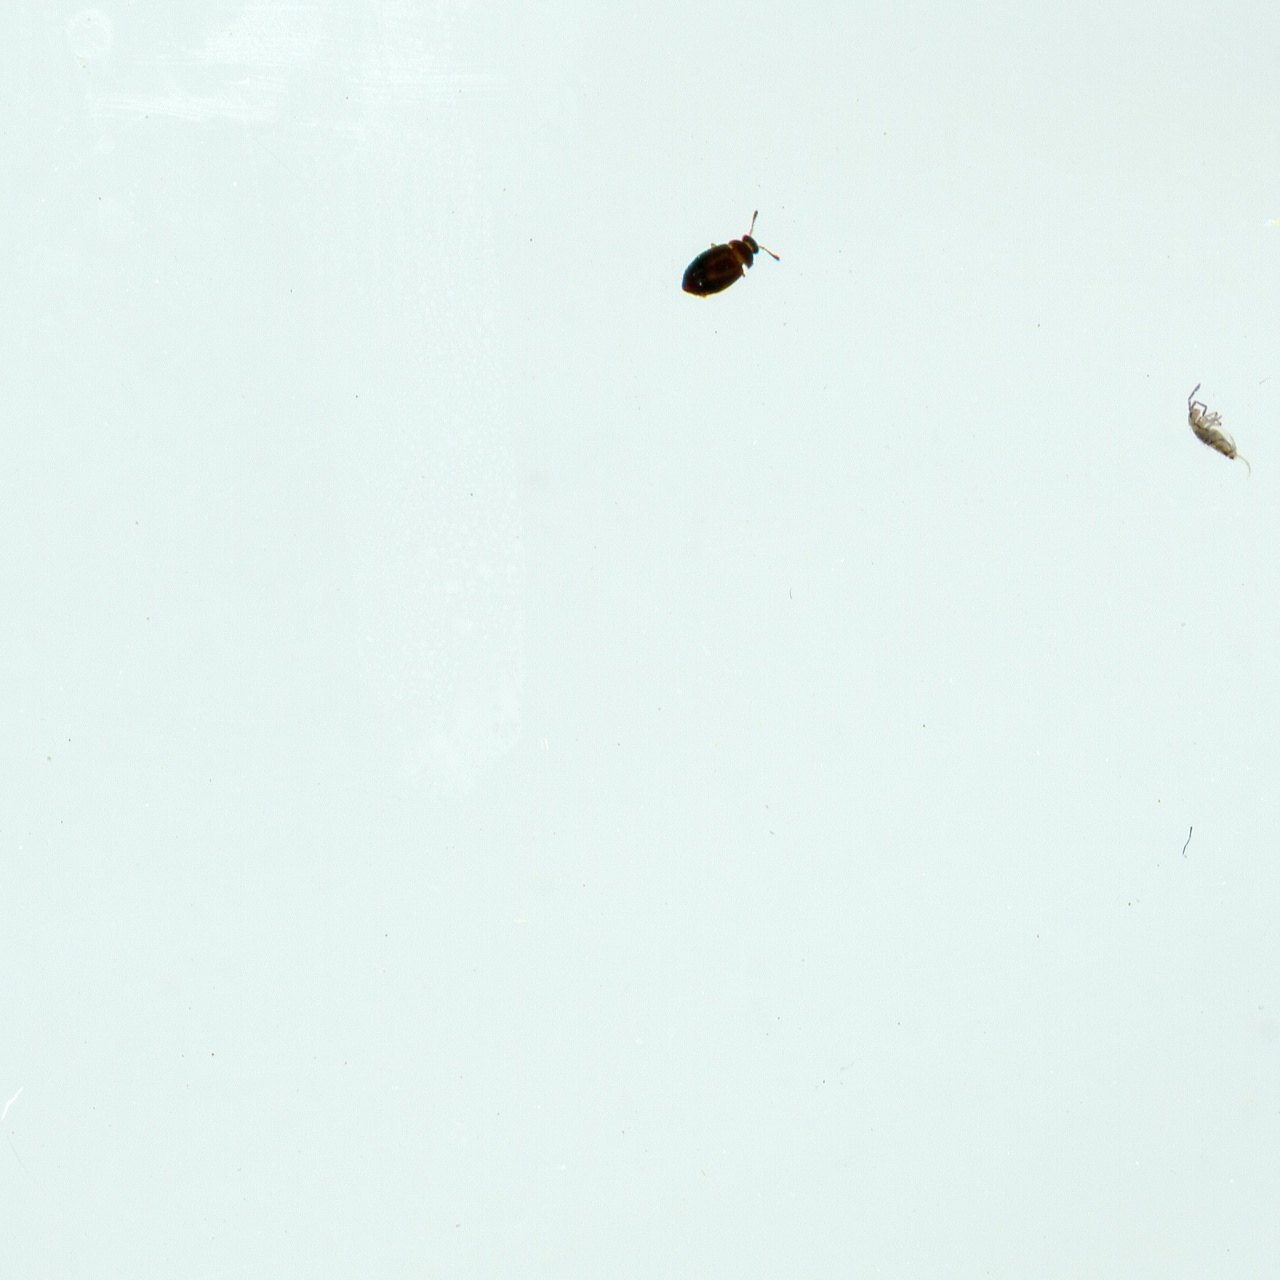arthropod: (658, 192, 801, 327), (1178, 379, 1274, 497)
